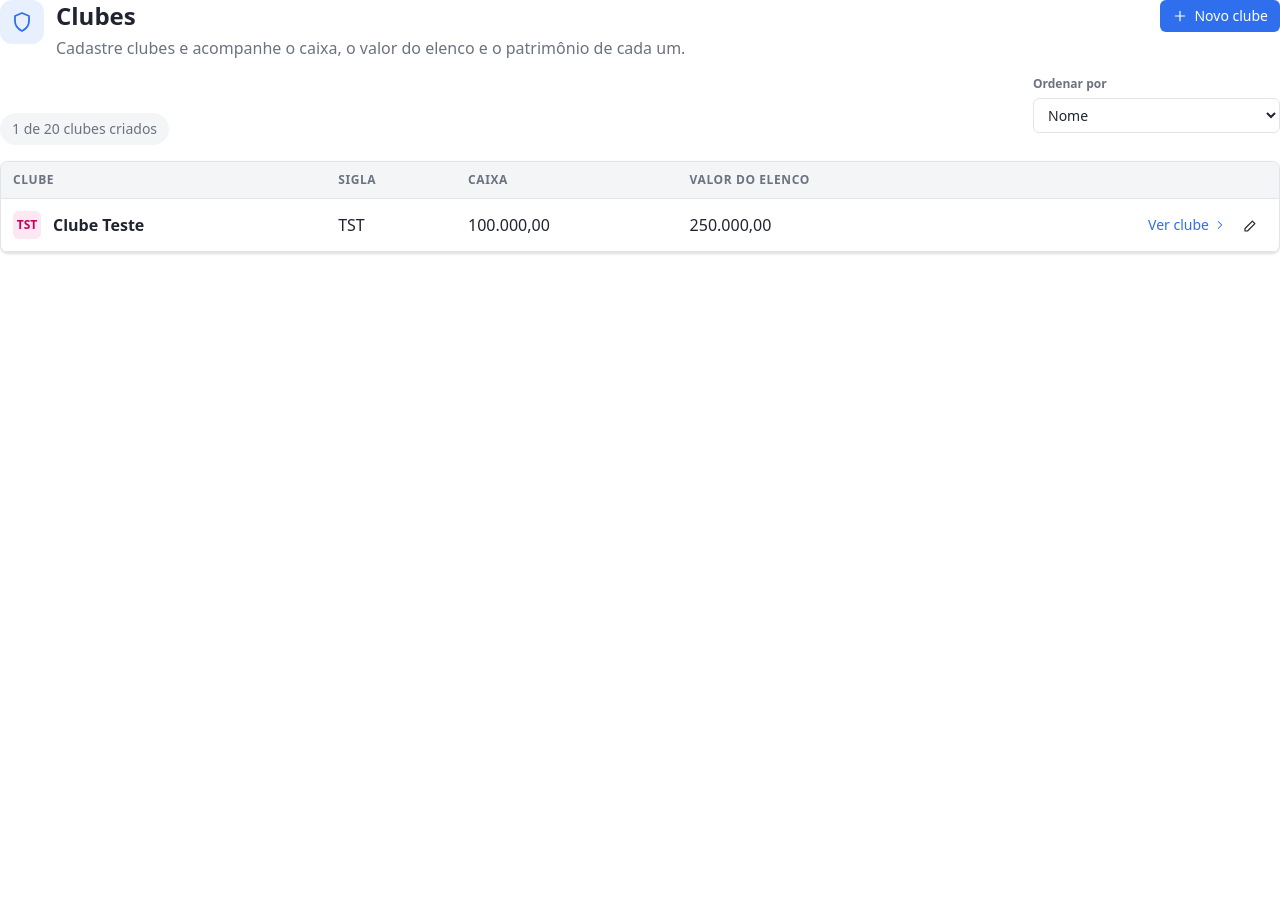
Test: ClubesPage › abre o editor preenchido com os dados do clube e atualiza a lista ao salvar
expect the text "Clube Teste" is shown: met, box [53,213,144,237]
// clica no ícone de Editar da linha do clube
Click the button named "Editar" at (1251, 225), box [1235,209,1267,241]
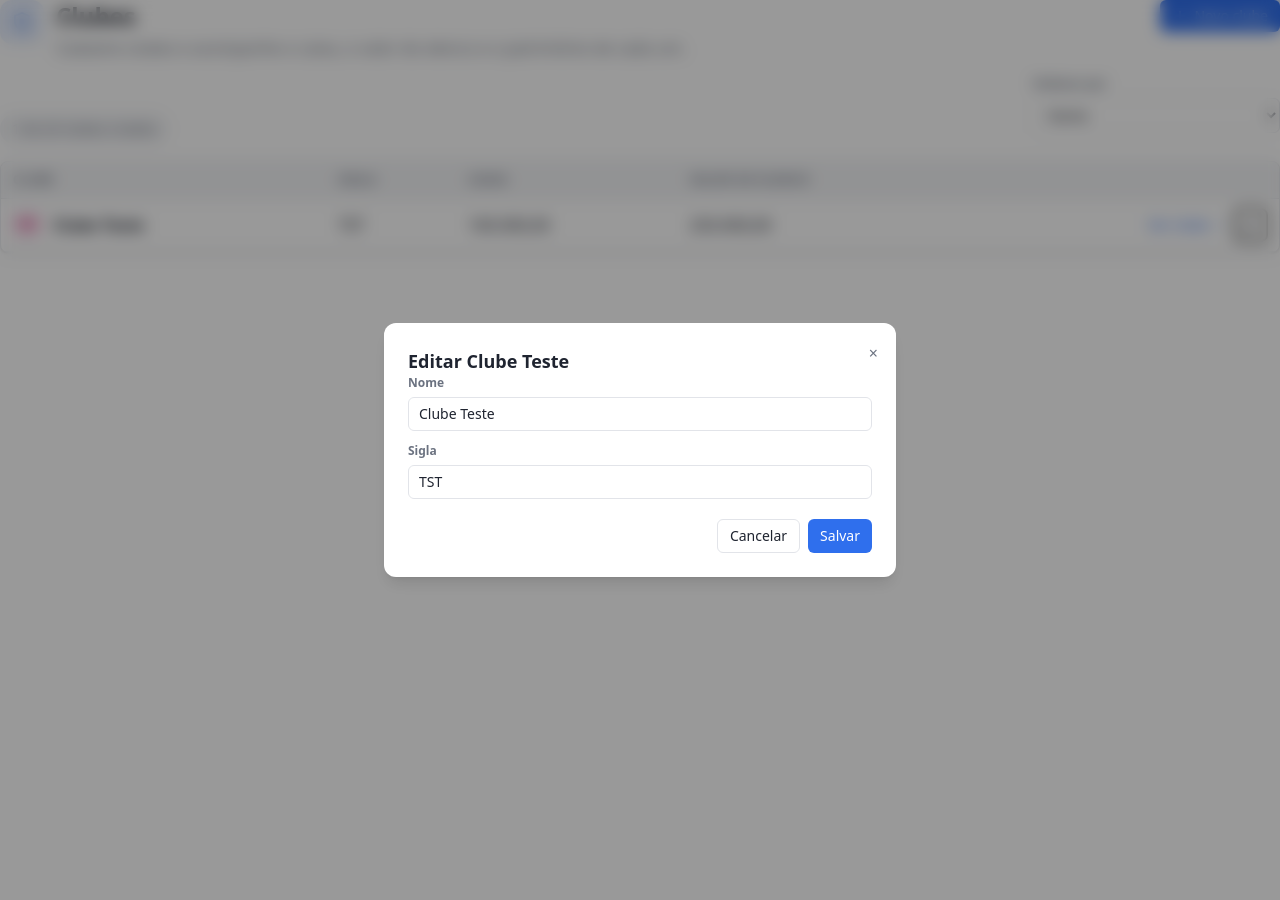
expect the field labelled "Nome" holds "Clube Teste": met
expect the field labelled "Sigla" holds "TST": met, box [408,465,872,499]
Replace the text in the field labelled "Nome" with "Clube Atualizado" at (640, 414), box [408,397,872,431]
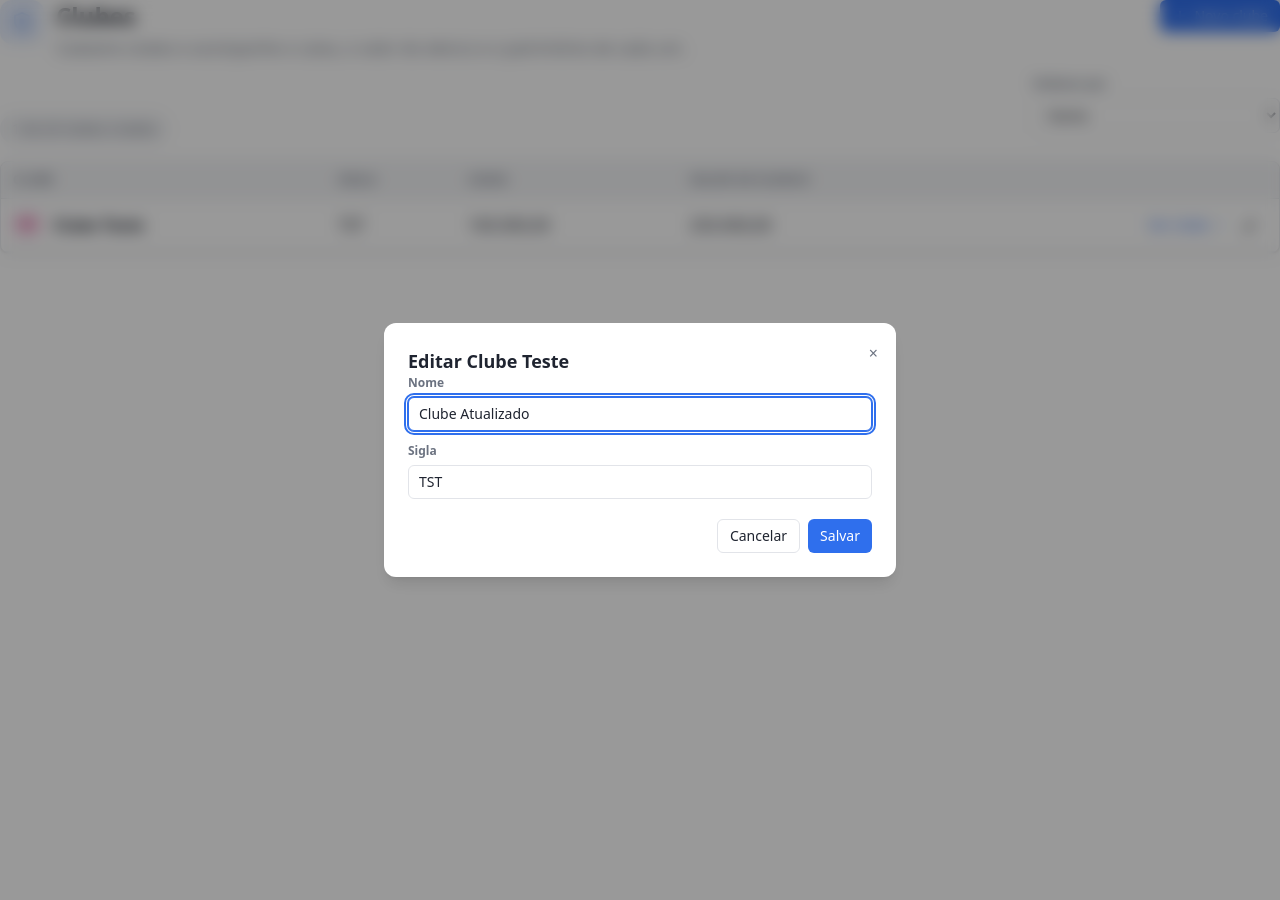
Click the button "Salvar" at (840, 536), box [808,519,872,553]
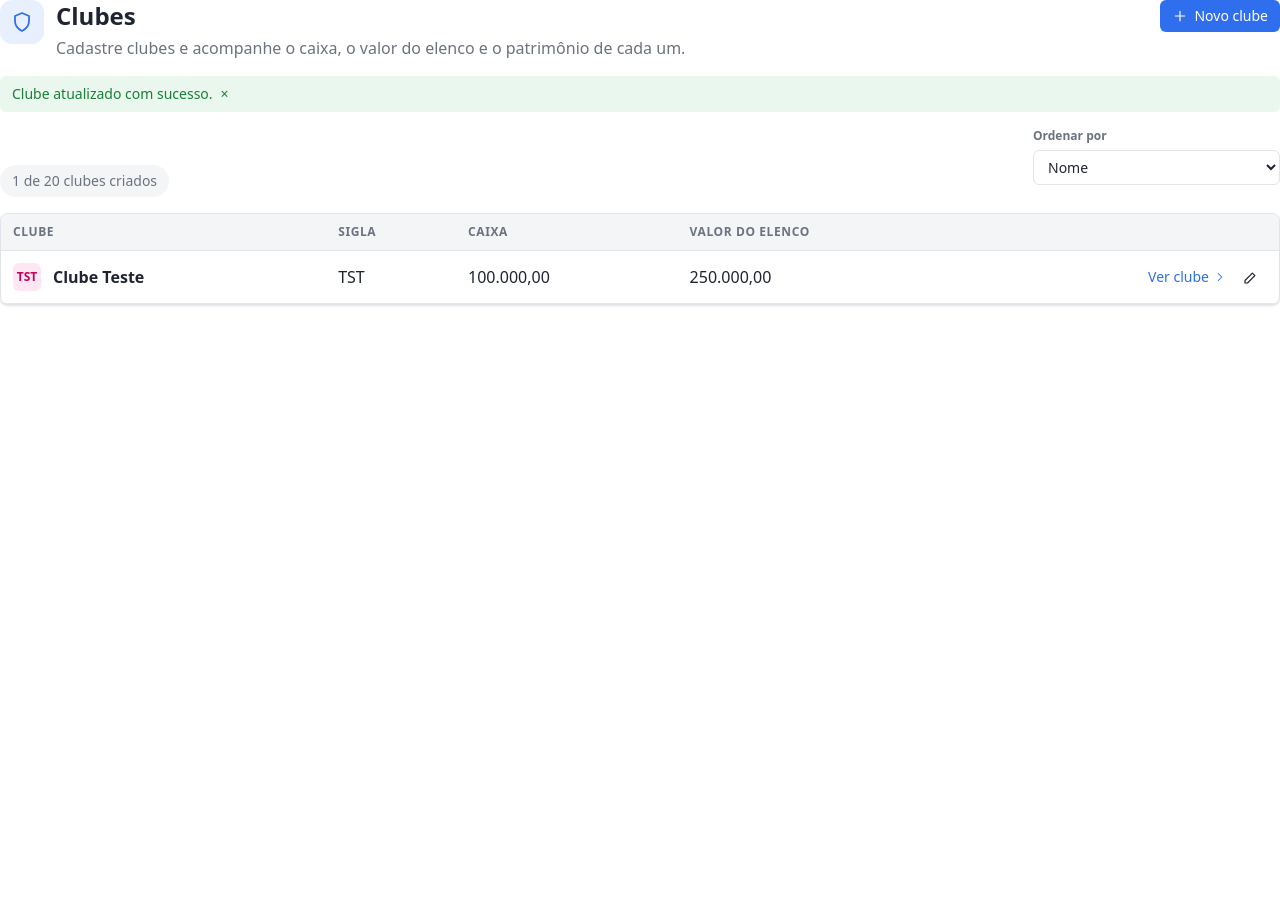
expect the text "Clube atualizado com sucesso." is shown: met, box [12,84,213,103]
expect the dialog is gone: met
